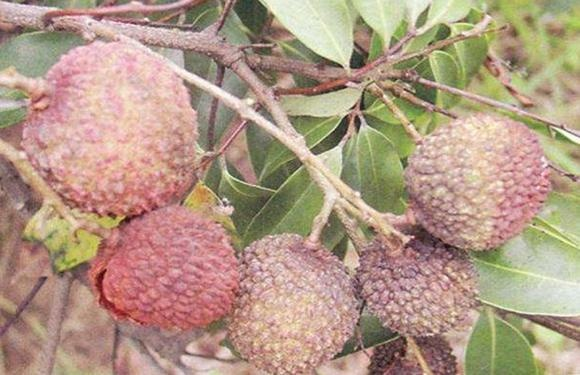Anthracnose: (62, 46, 181, 172), (420, 123, 529, 244), (241, 252, 345, 348), (359, 237, 462, 312), (111, 219, 213, 294)
